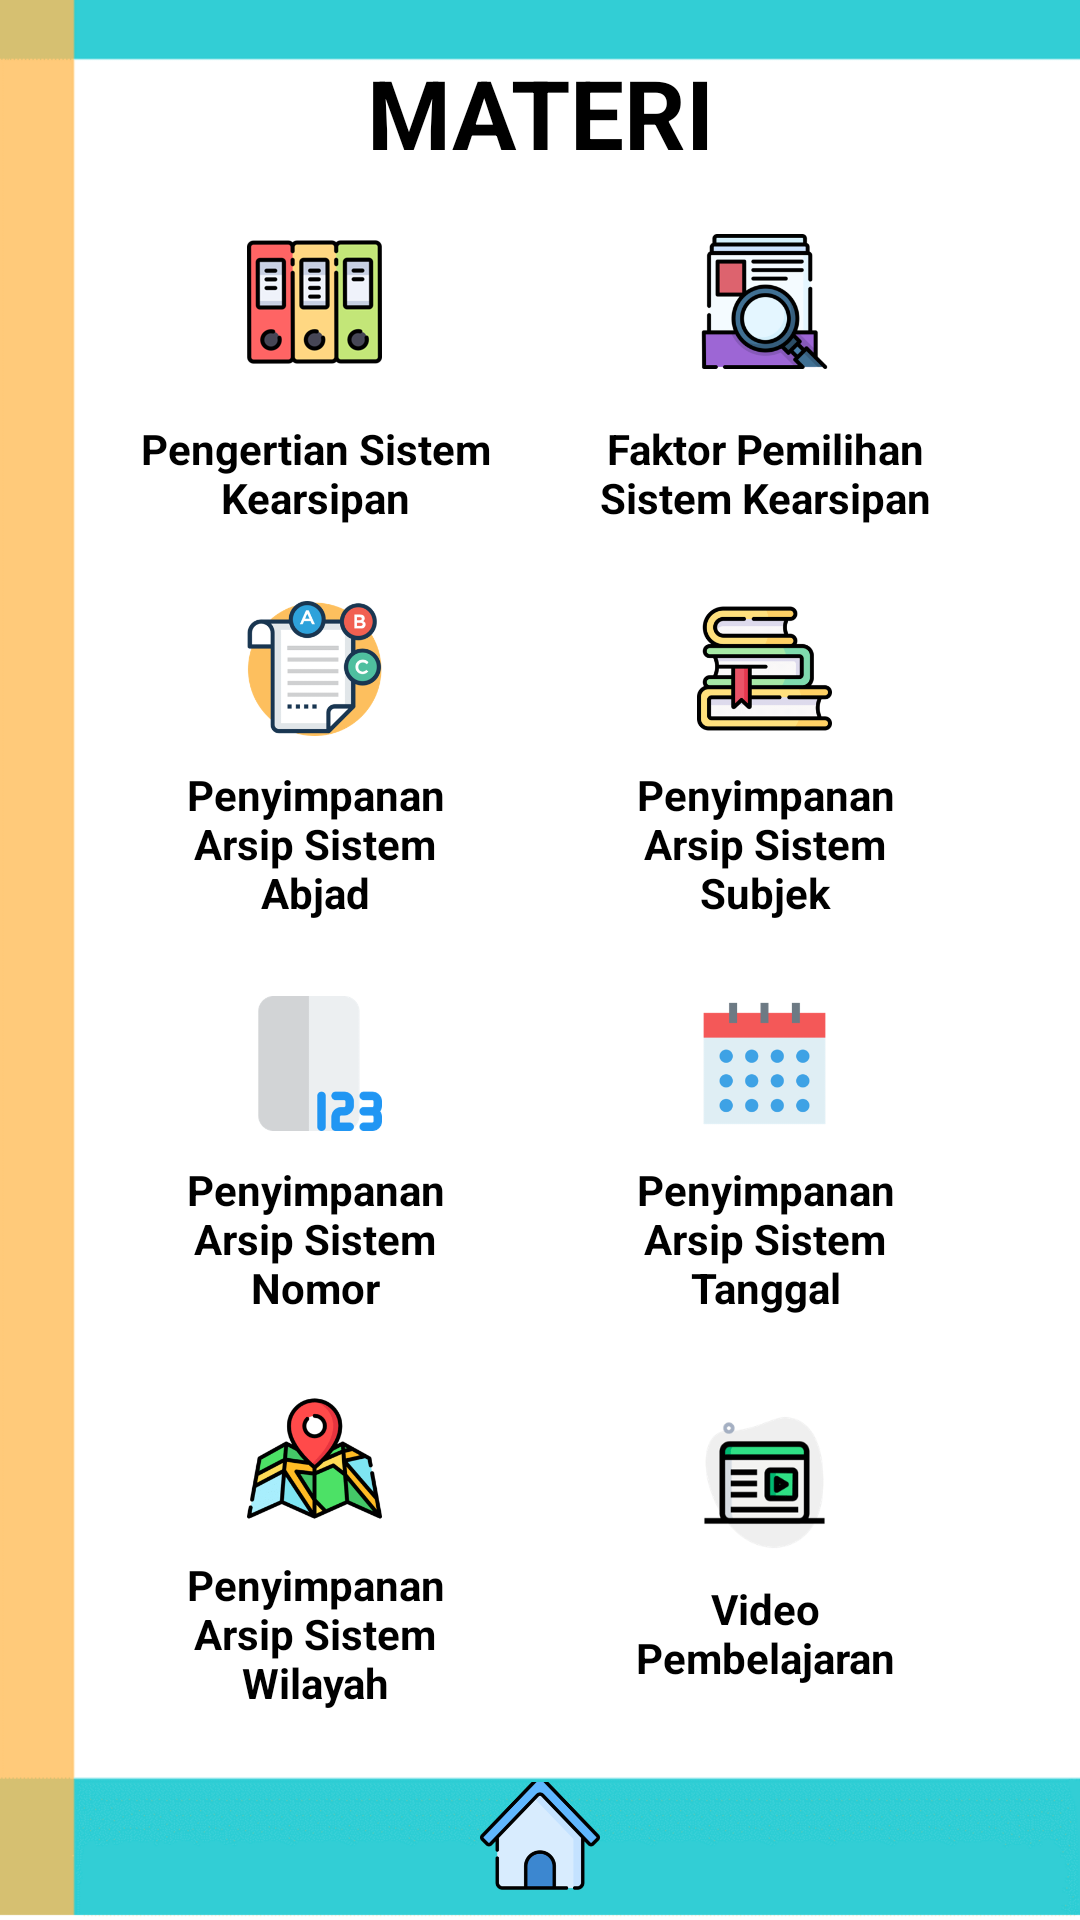

Screen size 1080 x 1920. Icon name, then its box in pixels as rect(x1, y1, x2, y2):
home: rect(466, 1782, 611, 1890)
referensi: rect(697, 606, 832, 731)
